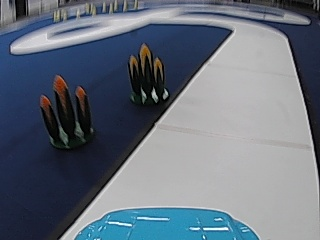corn: (41, 73, 96, 150), (127, 41, 168, 106)
